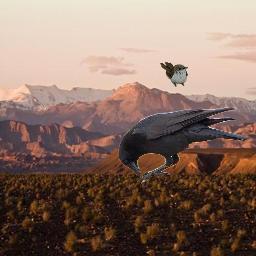Crow: (118, 107, 252, 185)
Cuckoo: (160, 62, 188, 87)
